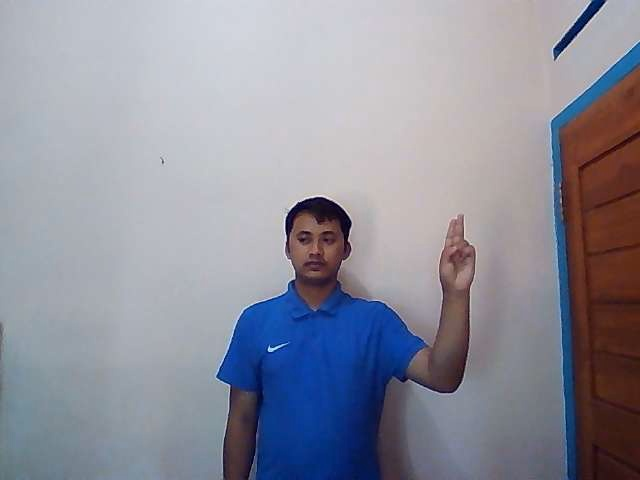U: (437, 212, 477, 291)
